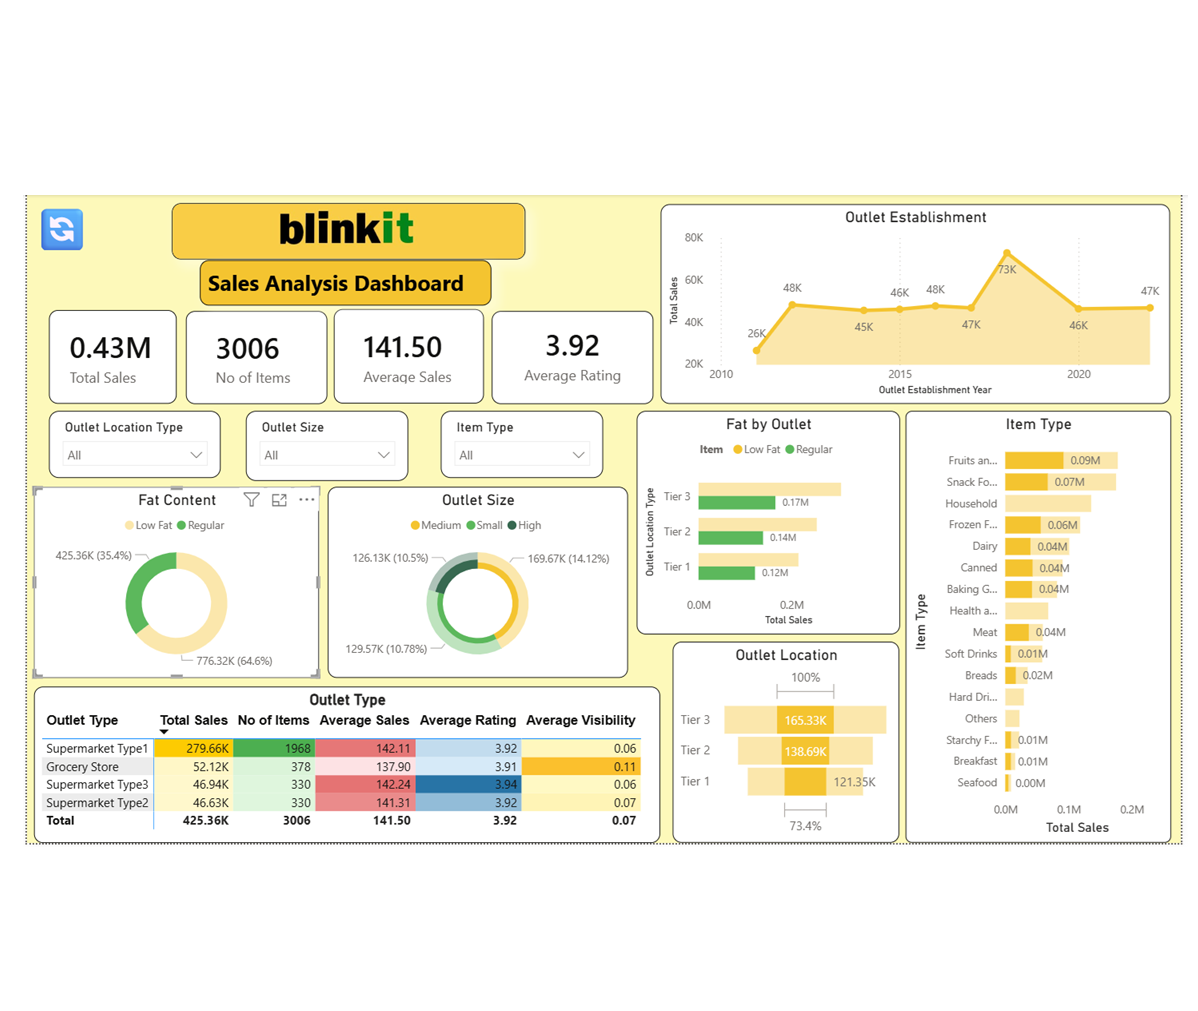

The page's visual inventory and layout, read from the dashboard file:
{"tool":"powerbi","page":{"name":"Page 1","canvas":[1280,720],"ordinal":0},"visuals":[{"type":"cardVisual","fields":{"Data":["BlinkIT Grocery Data.Total Sales"]},"box":[24.4,128.6,141.9,104.2],"z":0},{"type":"cardVisual","fields":{"Data":["BlinkIT Grocery Data.Average Sales"]},"box":[340.7,127.9,166.3,104.7],"z":1000},{"type":"cardVisual","fields":{"Data":["BlinkIT Grocery Data.Average Rating"]},"box":[515.1,130.2,179.1,103.5],"z":2000},{"type":"cardVisual","fields":{"Data":["BlinkIT Grocery Data.No of Items"]},"box":[176.7,130.2,157,103.5],"z":3000},{"type":"slicer","fields":{"Values":["BlinkIT Grocery Data.Outlet Location Type"]},"box":[24.4,240.7,190.7,74.4],"z":4000},{"type":"slicer","fields":{"Values":["BlinkIT Grocery Data.Outlet Size"]},"box":[243,240.7,180.2,77.9],"z":5000},{"type":"slicer","fields":{"Values":["BlinkIT Grocery Data.Item Type"]},"box":[459.3,240.7,180.2,74.4],"z":6000},{"type":"areaChart","title":"Outlet Establishment","fields":{"Y":["BlinkIT Grocery Data.Total Sales"],"Category":["BlinkIT Grocery Data.Outlet Establishment Year"]},"box":[702.6,11.1,564.9,221.2],"z":7000},{"type":"donutChart","title":"Fat Content","fields":{"Category":["BlinkIT Grocery Data.Item Fat Content"],"Y":["BlinkIT Grocery Data.Total Sales"]},"box":[8.1,324.4,316.3,211.6],"z":8000},{"type":"clusteredBarChart","title":"Item Type","fields":{"Y":["BlinkIT Grocery Data.Total Sales"],"Category":["BlinkIT Grocery Data.Item Type"]},"box":[974.4,240.7,294.2,479.1],"z":9000},{"type":"donutChart","title":"Outlet Size","fields":{"Y":["BlinkIT Grocery Data.Total Sales"],"Category":["BlinkIT Grocery Data.Outlet Size"]},"box":[333.7,324.4,332.6,211.6],"z":10000},{"type":"funnel","title":"Outlet Location","fields":{"Category":["BlinkIT Grocery Data.Outlet Location Type"],"Y":["BlinkIT Grocery Data.Total Sales"]},"box":[716.3,496.5,251.2,223.3],"z":11000},{"type":"clusteredBarChart","title":"Fat by Outlet","fields":{"Category":["BlinkIT Grocery Data.Outlet Location Type"],"Y":["BlinkIT Grocery Data.Total Sales"],"Series":["BlinkIT Grocery Data.Item Fat Content"]},"box":[675.6,240.7,291.9,247.7],"z":12000},{"type":"pivotTable","title":"Outlet Type","fields":{"Rows":["BlinkIT Grocery Data.Outlet Type"],"Values":["BlinkIT Grocery Data.Total Sales","BlinkIT Grocery Data.No of Items","BlinkIT Grocery Data.Average Sales","BlinkIT Grocery Data.Average Rating","BlinkIT Grocery Data.Average Visibility"]},"box":[8.1,546.5,694.2,173.3],"z":13000},{"type":"image","box":[160.5,10.5,391.9,62.8],"z":14000},{"type":"textbox","box":[191.9,73.3,323.3,50],"z":15000},{"type":"actionButton","box":[0,0,77.9,73.7],"z":15001}]}

Visuals, with their boxes in screenshot pixels (x1, y1, x2, y2):
cardVisual - BlinkIT Grocery Data.Total Sales: {"x1": 59, "y1": 311, "x2": 185, "y2": 404}
cardVisual - BlinkIT Grocery Data.Average Sales: {"x1": 341, "y1": 310, "x2": 489, "y2": 404}
cardVisual - BlinkIT Grocery Data.Average Rating: {"x1": 496, "y1": 312, "x2": 655, "y2": 405}
cardVisual - BlinkIT Grocery Data.No of Items: {"x1": 195, "y1": 312, "x2": 335, "y2": 405}
slicer - BlinkIT Grocery Data.Outlet Location Type: {"x1": 59, "y1": 411, "x2": 229, "y2": 477}
slicer - BlinkIT Grocery Data.Outlet Size: {"x1": 254, "y1": 411, "x2": 414, "y2": 480}
slicer - BlinkIT Grocery Data.Item Type: {"x1": 446, "y1": 411, "x2": 607, "y2": 477}
"Outlet Establishment" areaChart: {"x1": 663, "y1": 206, "x2": 1166, "y2": 403}
"Fat Content" donutChart: {"x1": 45, "y1": 485, "x2": 326, "y2": 674}
"Item Type" clusteredBarChart: {"x1": 905, "y1": 411, "x2": 1167, "y2": 837}
"Outlet Size" donutChart: {"x1": 335, "y1": 485, "x2": 631, "y2": 674}
"Outlet Location" funnel: {"x1": 675, "y1": 639, "x2": 899, "y2": 837}
"Fat by Outlet" clusteredBarChart: {"x1": 639, "y1": 411, "x2": 899, "y2": 631}
"Outlet Type" pivotTable: {"x1": 45, "y1": 683, "x2": 663, "y2": 837}
image: {"x1": 180, "y1": 206, "x2": 529, "y2": 262}
textbox: {"x1": 208, "y1": 262, "x2": 496, "y2": 306}
actionButton: {"x1": 37, "y1": 197, "x2": 107, "y2": 262}
